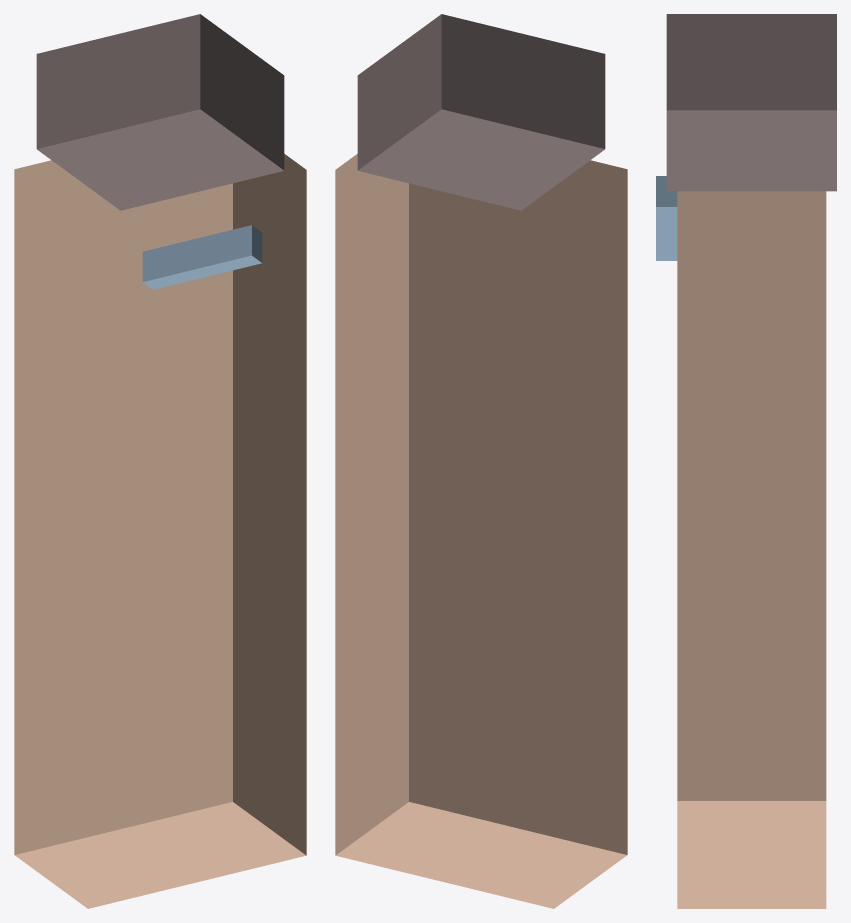
File: sample-imported-avatar.glb
The picture shows the model from 3 angles, left to right: view 1: azimuth 30°, elevation 25°; view 2: azimuth 150°, elevation 25°; view 3: azimuth 270°, elevation 25°; orthographic projection.
Visible parts, largest first — view 1: body, hair, eyes; view 2: body, hair; view 3: body, hair, eyes.
Part boxes in pixels (box(x1,y1,x2,y2)): body: box(14, 154, 306, 908); hair: box(36, 14, 284, 210); eyes: box(142, 225, 262, 289); body: box(335, 154, 627, 908); hair: box(357, 14, 605, 210); body: box(677, 191, 826, 908); hair: box(666, 14, 836, 191); eyes: box(656, 176, 677, 260).
Size of the model in its own units: 0.6 by 2.08 by 0.425.
